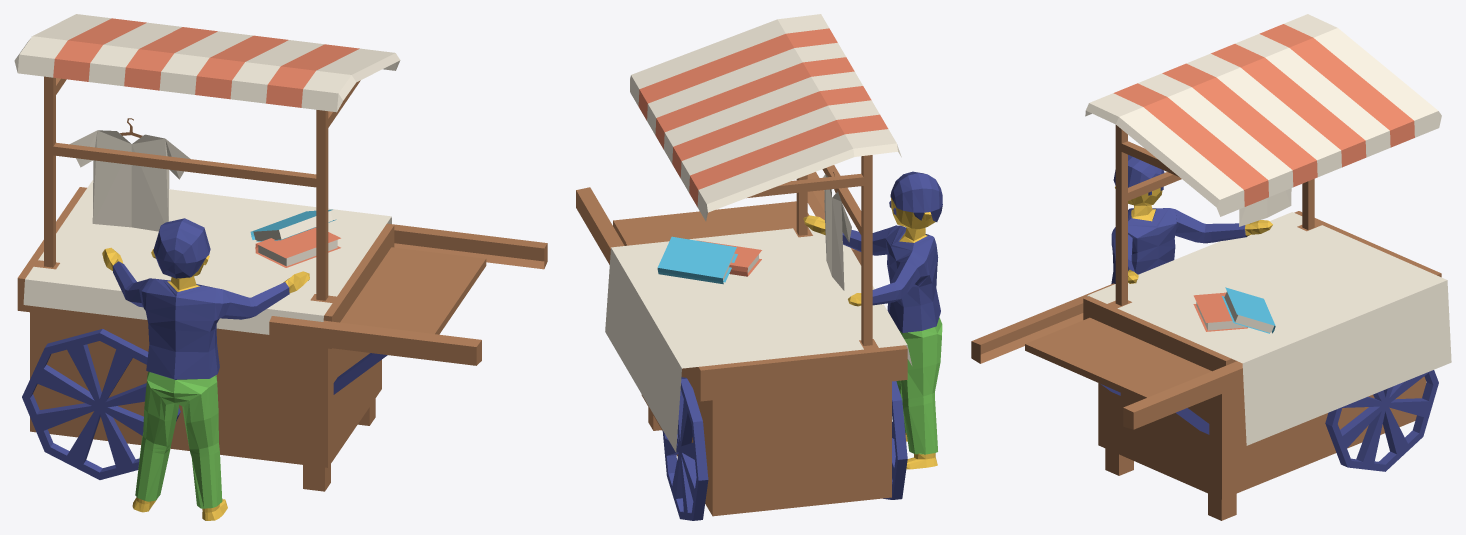
3 renders of one model, left to right at view 1: azimuth 30°, elevation 25°; view 2: azimuth 150°, elevation 25°; view 3: azimuth 270°, elevation 25°, orthographic. The views are drawn at different scales.
Visible parts, largest first — view 1: 物販_未来; view 2: 物販_未来; view 3: 物販_未来.
Part boxes in pixels (x1,y1,x2,y2): 物販_未来: (14,14,547,520); 物販_未来: (576,14,942,520); 物販_未来: (971,14,1451,520).
Size of the model in its own units: 3.34 by 2.98 by 3.46.
